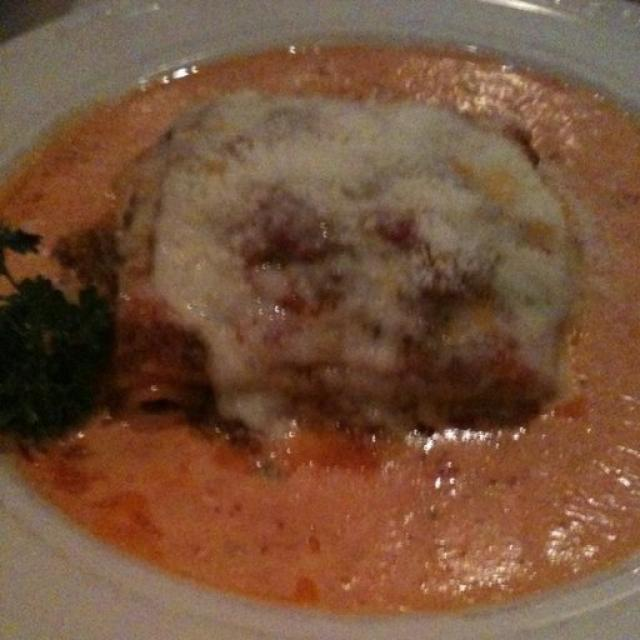Lasagna: (97, 84, 598, 466)
